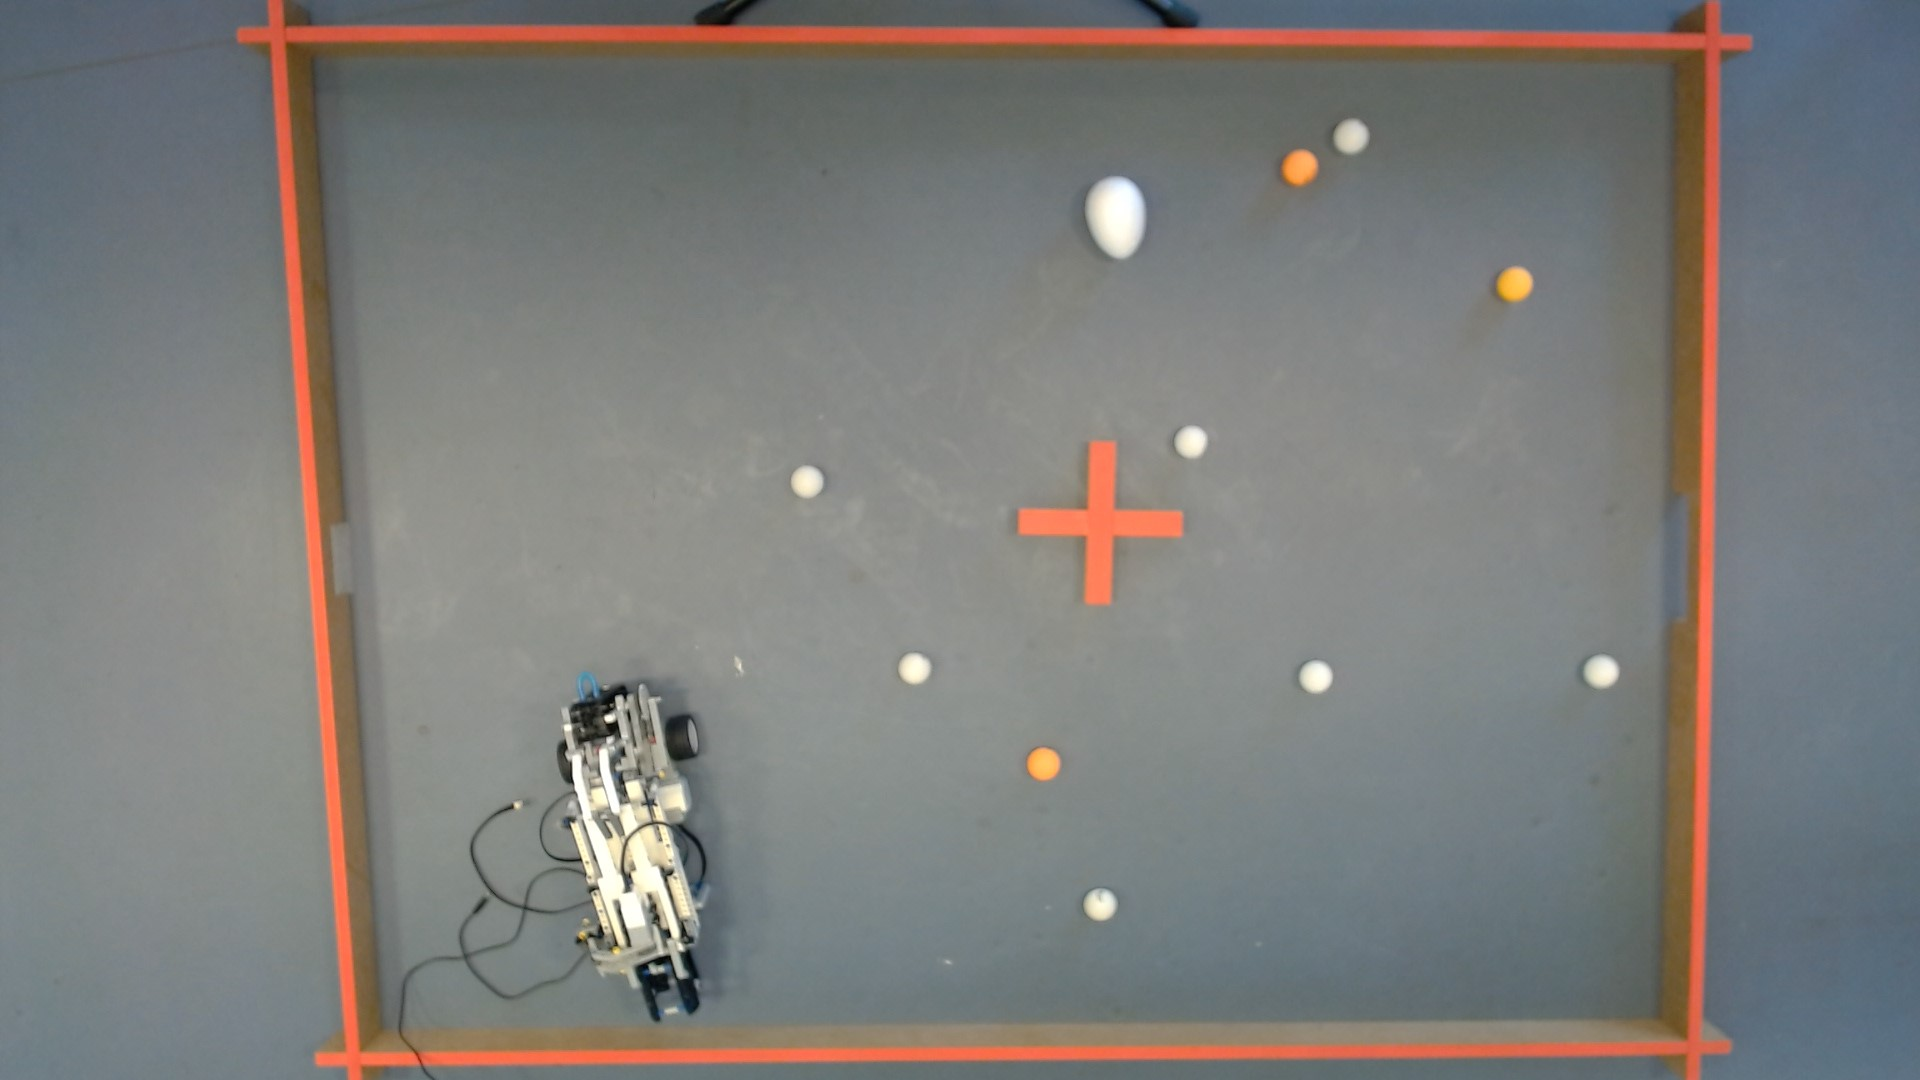Opingpong: (1270, 146, 1323, 189), (1575, 650, 1626, 692), (1021, 744, 1068, 786), (1494, 264, 1538, 309)
Wpingpong: (1073, 878, 1133, 930), (1328, 116, 1375, 162), (787, 459, 831, 504), (1295, 655, 1338, 700), (1172, 419, 1212, 463), (891, 651, 938, 688)
arena: (216, 0, 401, 1080), (252, 971, 1805, 1080), (1640, 7, 1756, 1080), (166, 0, 1783, 74)
car: (509, 669, 769, 1040)
cross: (1006, 430, 1189, 613)
egg: (1079, 170, 1153, 272)
